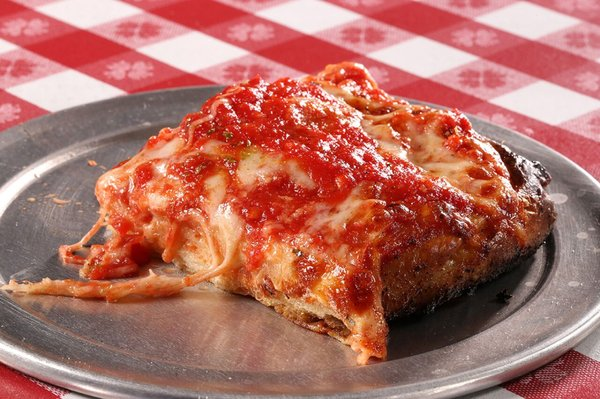curry: (0, 0, 592, 390)
sandwich: (46, 60, 549, 366)
